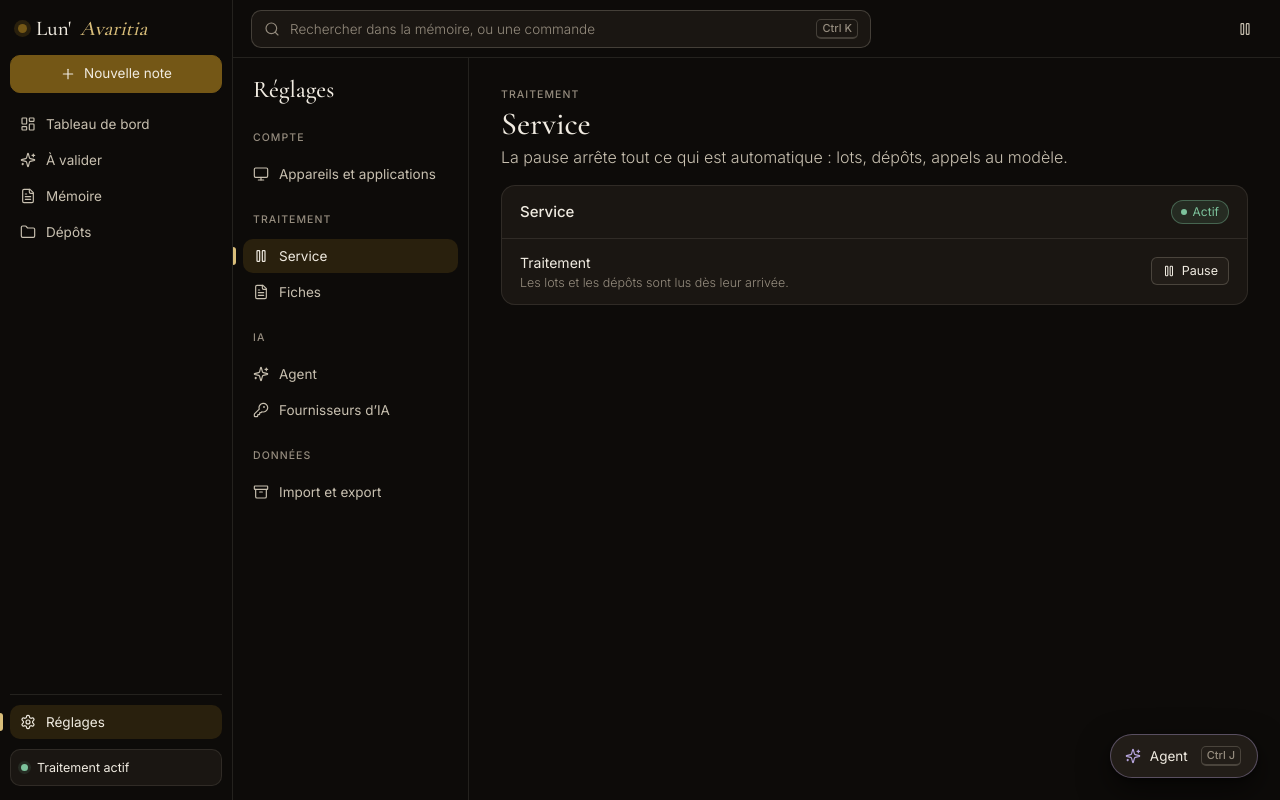
Test case: App › Pause in the settings turns the service card of the rail to paused at once
Expected: the text "Traitement actif" is shown, [37,758,130,776]
What coordinates should you click on to do the following:
click the button "Pause"
I would click on:
 (1190, 272)
Its box is [1151,258,1229,286].
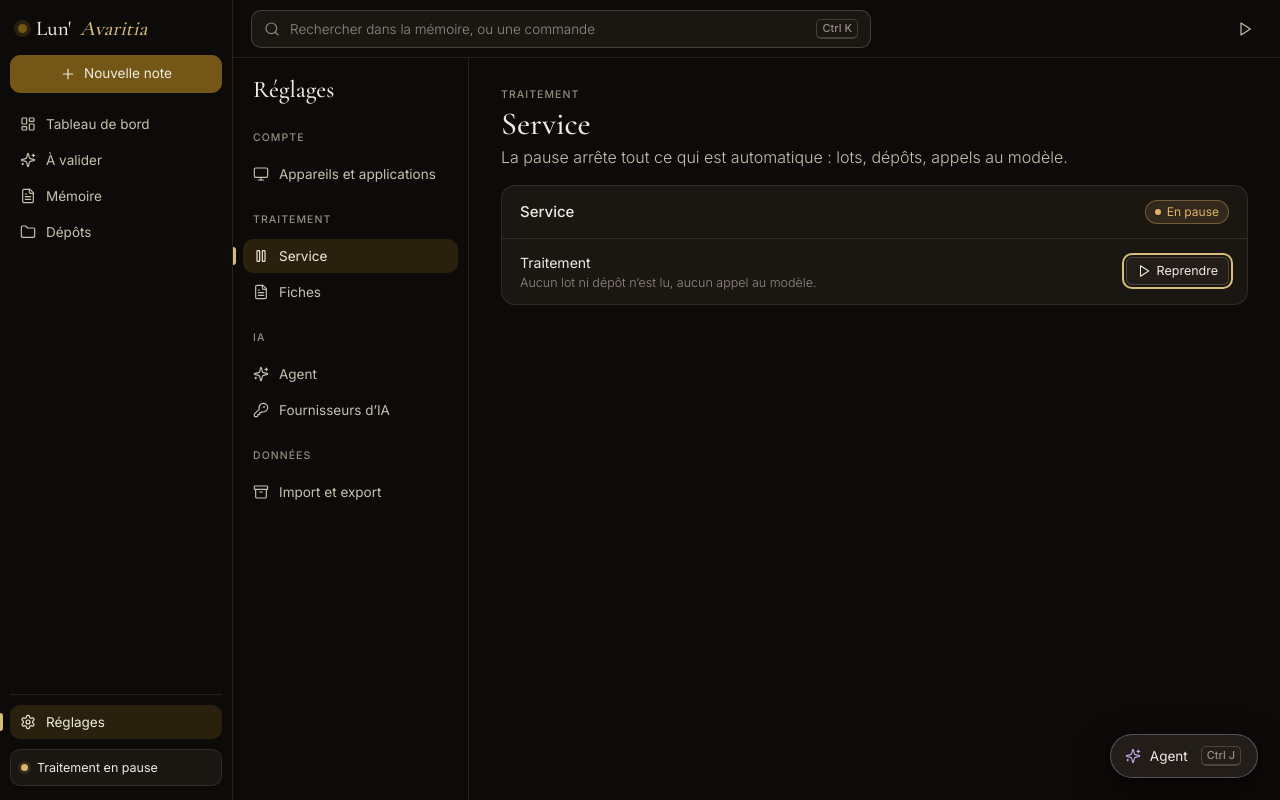
Now the text "Traitement en pause" is shown, box [37,758,158,776]
